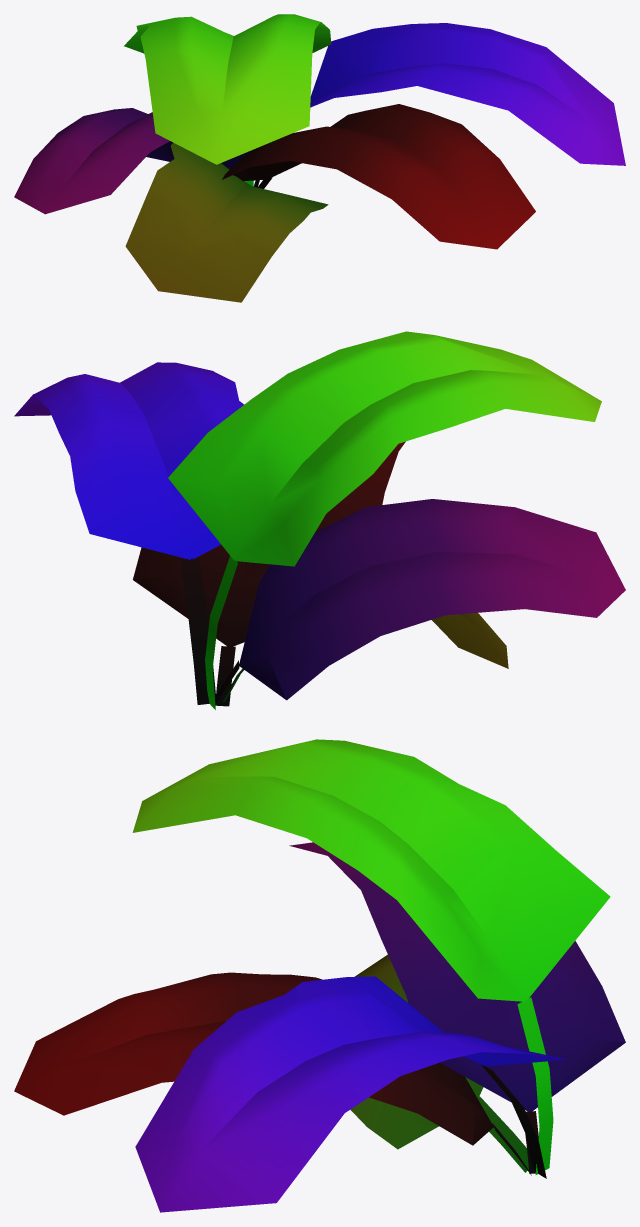
File: Young_palm_var2.fbx
3 renders of one model, top to bottom at view 1: azimuth 30°, elevation 25°; view 2: azimuth 150°, elevation 25°; view 3: azimuth 270°, elevation 25°, orthographic. The views are drawn at different scales.
Parts seen in each view (by area): view 1: Palm_var4_LOD0; view 2: Palm_var4_LOD0; view 3: Palm_var4_LOD0.
Boxes of the visible parts, x1,y1,x2,y2 form: Palm_var4_LOD0: (14,14,625,302); Palm_var4_LOD0: (14,331,625,709); Palm_var4_LOD0: (14,739,625,1212).
Size of what is drawn, in the model's own units: 2.74 by 1.23 by 2.
